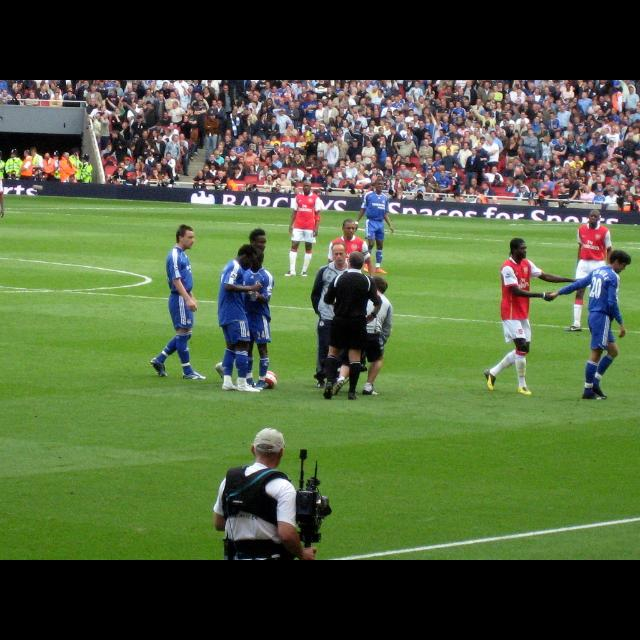Football: (264, 370, 276, 388)
